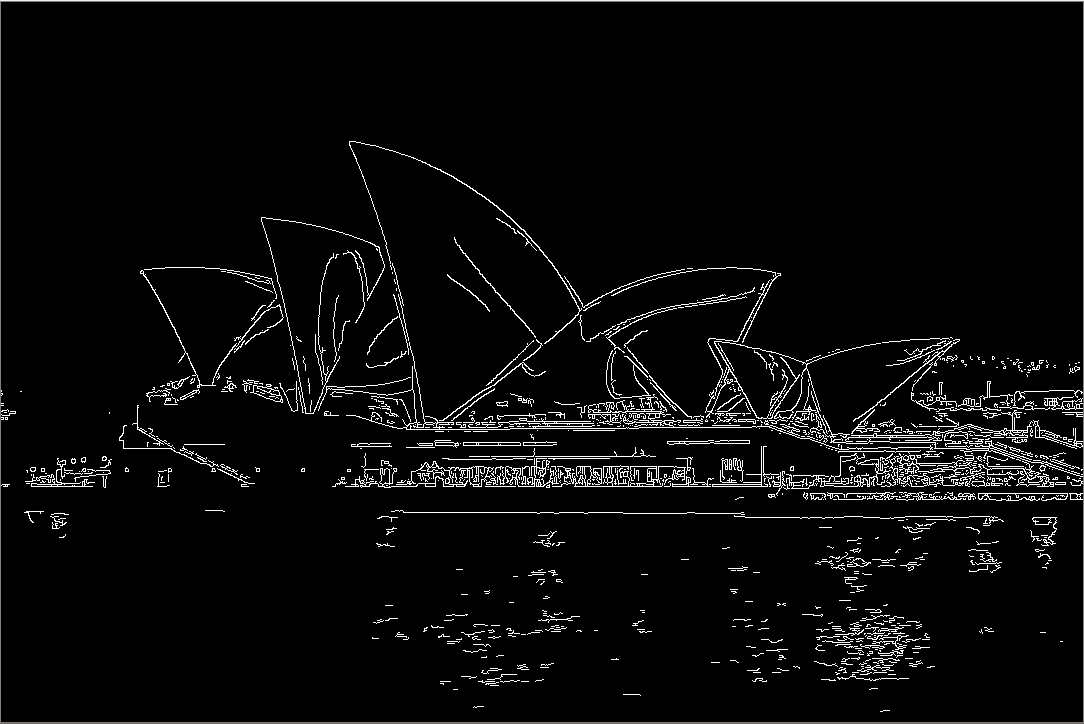opera house: (59, 131, 982, 441)
